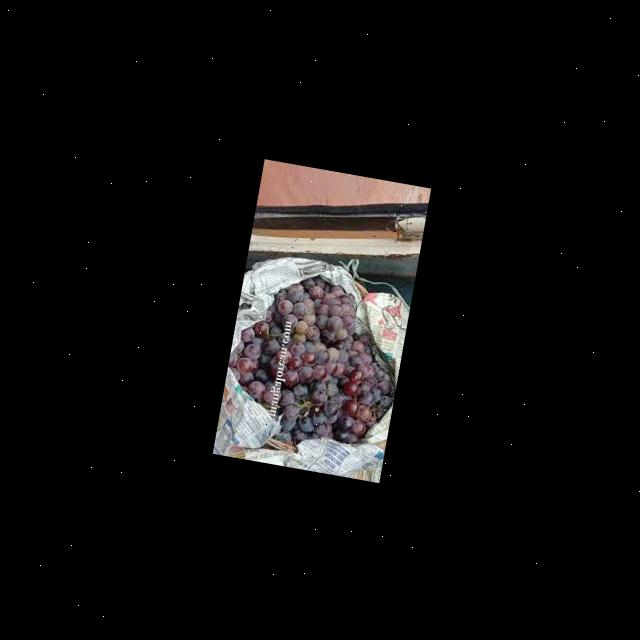grape: (216, 264, 410, 462)
